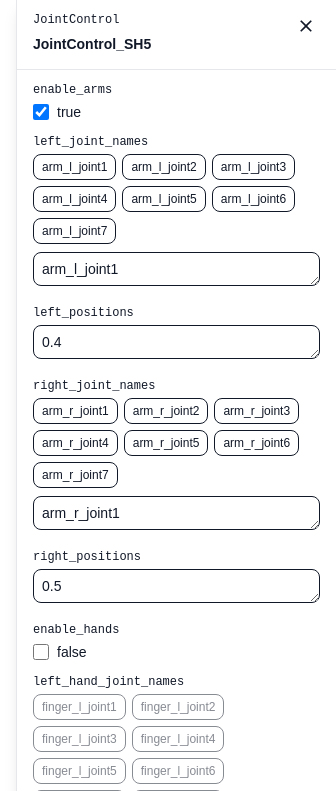
Test: SH5 migrates SG2 catalog defaults and exposes both forty-finger hand controls
The width and height of the screenshot is (336, 791).
Click the checkbox labelled "false" at coordinates (41, 652), box [33,644,49,660]
(page scrolled)
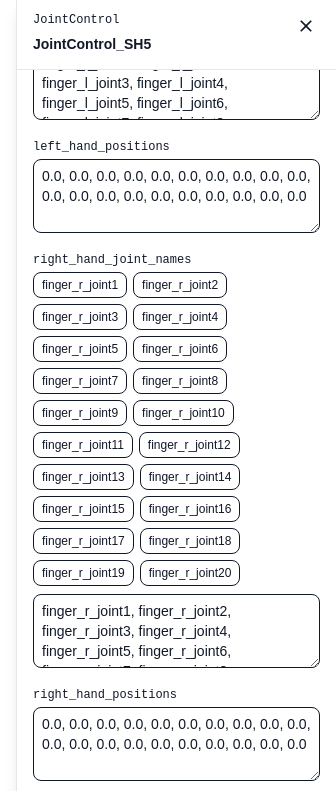
expect the button "finger_r_joint20" is enabled: met, box [140,560,240,586]
